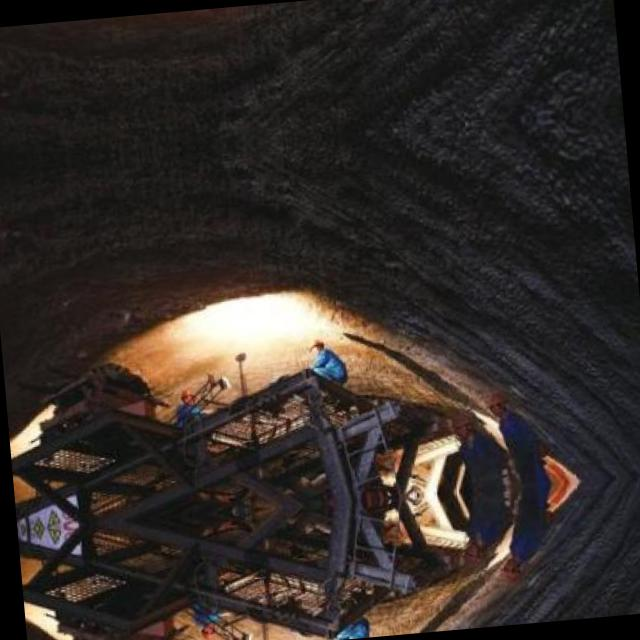helmet: (496, 556, 524, 582), (482, 391, 509, 416), (462, 542, 482, 568), (450, 411, 470, 436), (306, 336, 326, 354), (177, 386, 195, 404), (198, 622, 215, 640)
